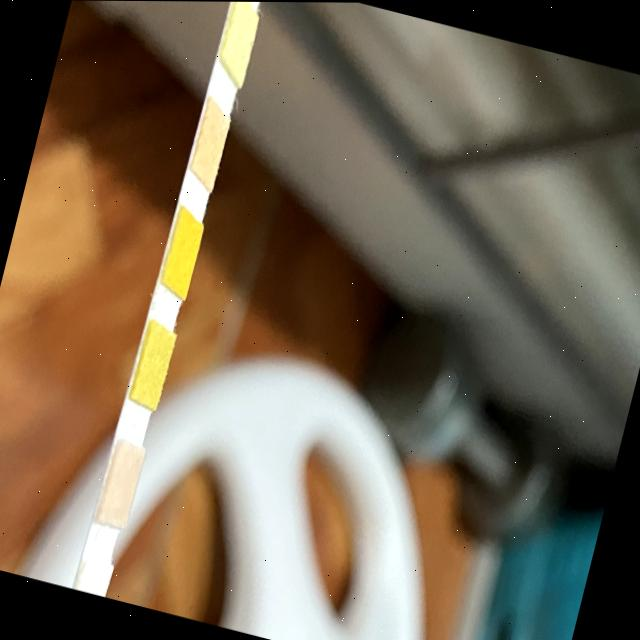Bilirubin: (76, 563, 107, 596)
Blood: (162, 218, 202, 287)
Ketone: (97, 442, 142, 526)
Protein: (221, 5, 258, 61)
SpGravity: (132, 324, 174, 405)
pH: (193, 112, 228, 173)
